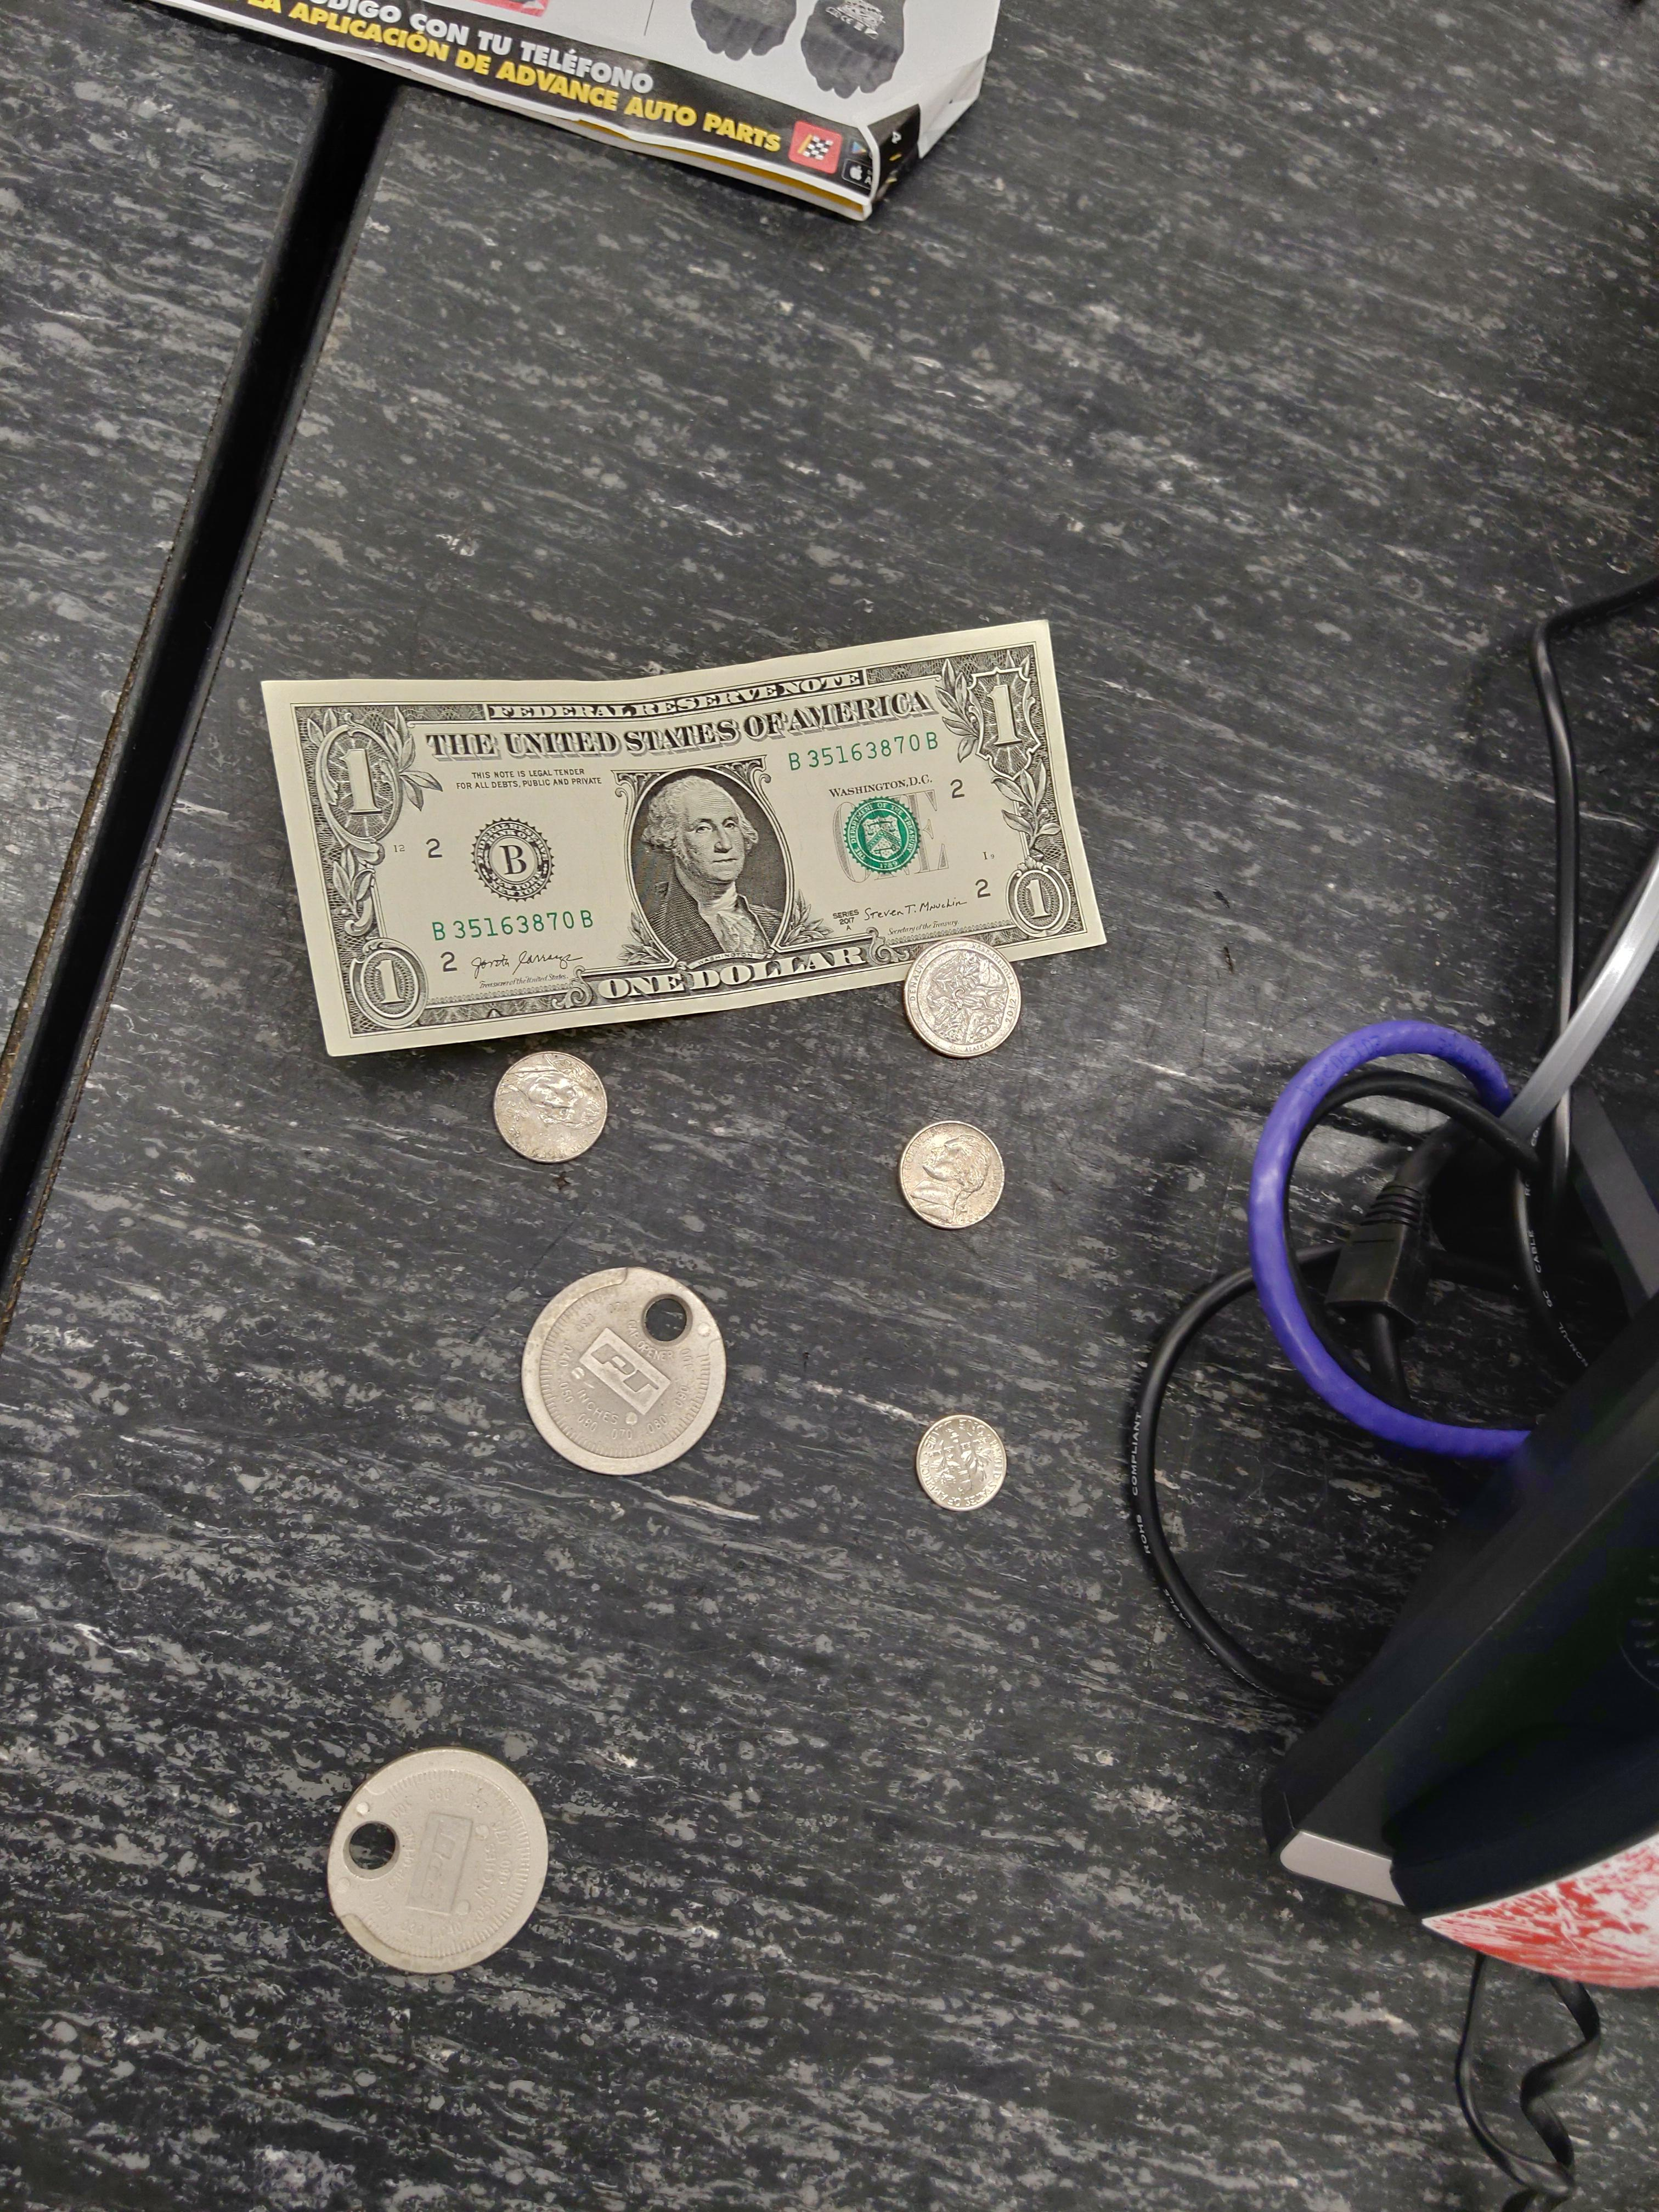Dime: (915, 1411, 1007, 1515)
Nickel: (491, 1050, 610, 1165), (896, 1118, 1007, 1231)
OneBill: (258, 613, 1108, 1061)
Quarter: (901, 935, 1023, 1061)
